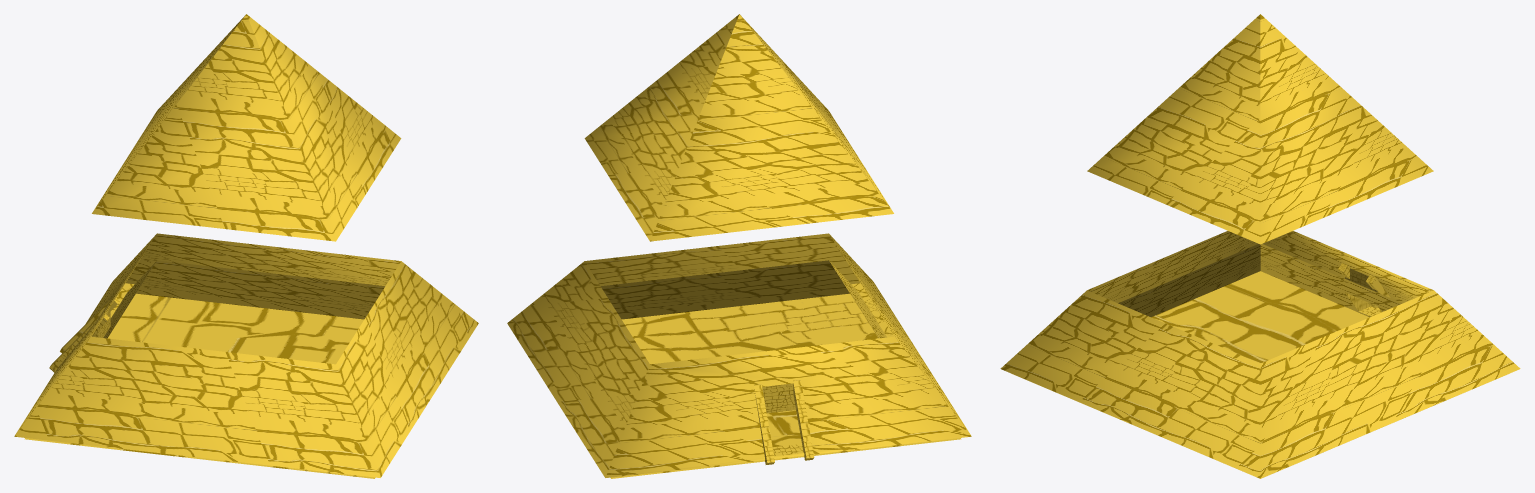
The model's file is Pyamide.fbx.
3 renders of one model, left to right at view 1: azimuth 30°, elevation 25°; view 2: azimuth 150°, elevation 25°; view 3: azimuth 270°, elevation 25°, orthographic. The views are drawn at different scales.
Visible parts, largest first — view 1: pPyramid18, pPyramid19, pPlane3; view 2: pPyramid18, pPyramid19, pPlane3; view 3: pPyramid18, pPyramid19, pPlane3.
Part boxes in pixels (<box>): pPyramid18: <box>14,233,478,477</box>; pPyramid19: <box>92,14,401,241</box>; pPlane3: <box>24,293,375,478</box>; pPyramid18: <box>507,233,971,477</box>; pPyramid19: <box>584,14,893,241</box>; pPlane3: <box>610,293,961,478</box>; pPyramid18: <box>1000,231,1520,478</box>; pPyramid19: <box>1087,14,1433,244</box>; pPlane3: <box>1018,271,1502,478</box>.
Bounding box in the file's own units: 14.54 × 11.09 × 14.54.
